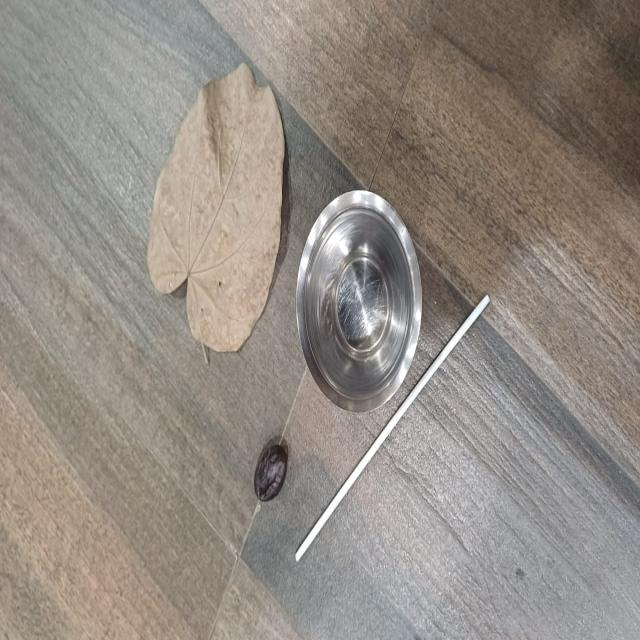Date-Bio: (254, 433, 290, 511)
Leaf-Bio: (143, 66, 283, 358)
Steel-NonBio: (296, 188, 423, 413)
Straw-NonBio: (290, 292, 493, 575)
